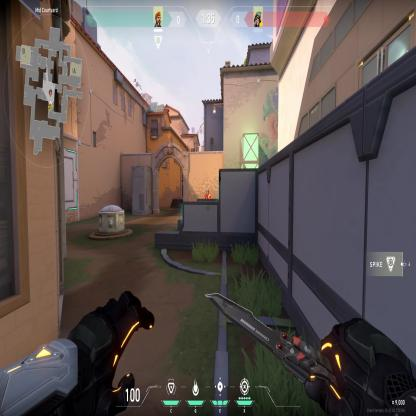enemy: (202, 186, 212, 200)
